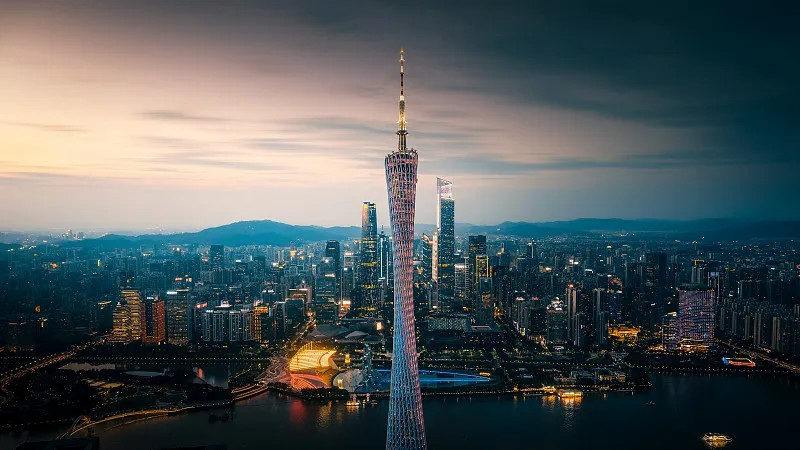Canton: (382, 49, 428, 449)
